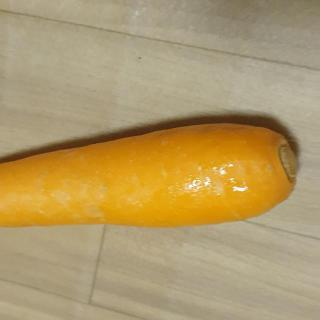carrot: (0, 119, 302, 231)
